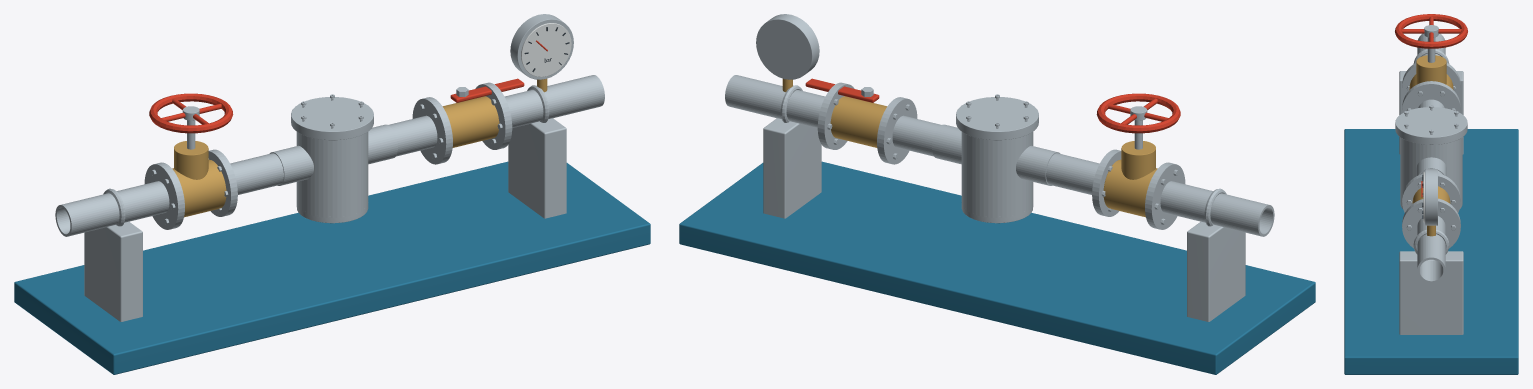
File: 17_pipe_valve_filter_module.glb
3 views of the same model, side by side, from view 1: azimuth 30°, elevation 25°; view 2: azimuth 150°, elevation 25°; view 3: azimuth 270°, elevation 25° (orthographic). The views are drawn at different scales.
Parts seen in each view (by area): view 1: BasePlate, Filter_Housing, Pipe_Support_0, Pipe_Support_1, Pipe_Section_0, Pipe_Section_3, Filter_Lid, Gauge_Face, BallValve_Body, Valve_Body, Pipe_Section_1, Handwheel_Rim (+10 smaller); view 2: BasePlate, Filter_Housing, Pipe_Support_0, Pipe_Support_1, Pipe_Section_0, Gauge_Case, Pipe_Section_3, Filter_Lid, BallValve_Body, Valve_Body, Pipe_Section_1, Handwheel_Rim (+9 smaller); view 3: BasePlate, Pipe_Support_1, Filter_Lid, Filter_Housing, Pipe_Section_3, BallValve_Flange_0.065_FlangePlate, Handwheel_Rim, Valve_Flange_0.058_FlangePlate, BallValve_Flange_-0.065_FlangePlate, Valve_Bonnet, Gauge_Case, Valve_Flange_-0.058_FlangePlate (+7 smaller).
Boxes of the visible parts, left/top/right/bottom form: BasePlate: left=14, top=161, right=650, bottom=374; Filter_Housing: left=296, top=132, right=368, bottom=217; Pipe_Support_0: left=84, top=221, right=142, bottom=321; Pipe_Support_1: left=508, top=118, right=566, bottom=218; Pipe_Section_0: left=55, top=181, right=169, bottom=236; Pipe_Section_3: left=504, top=75, right=604, bottom=127; Filter_Lid: left=291, top=97, right=373, bottom=140; Gauge_Face: left=521, top=23, right=571, bottom=76; BallValve_Body: left=442, top=96, right=499, bottom=147; Valve_Body: left=172, top=159, right=226, bottom=217; Pipe_Section_1: left=230, top=153, right=283, bottom=194; Handwheel_Rim: left=149, top=93, right=233, bottom=133; BasePlate: left=679, top=161, right=1315, bottom=374; Filter_Housing: left=961, top=132, right=1033, bottom=217; Pipe_Support_0: left=1187, top=221, right=1245, bottom=321; Pipe_Support_1: left=763, top=118, right=821, bottom=218; Pipe_Section_0: left=1160, top=181, right=1274, bottom=236; Gauge_Case: left=756, top=14, right=819, bottom=79; Pipe_Section_3: left=725, top=75, right=825, bottom=127; Filter_Lid: left=956, top=97, right=1038, bottom=140; BallValve_Body: left=830, top=96, right=887, bottom=147; Valve_Body: left=1103, top=159, right=1157, bottom=217; Pipe_Section_1: left=1046, top=153, right=1099, bottom=194; Handwheel_Rim: left=1096, top=93, right=1180, bottom=133; BasePlate: left=1344, top=129, right=1518, bottom=374; Pipe_Support_1: left=1399, top=251, right=1463, bottom=334; Filter_Lid: left=1395, top=107, right=1467, bottom=144; Filter_Housing: left=1400, top=137, right=1462, bottom=203; Pipe_Section_3: left=1417, top=216, right=1445, bottom=283; BallValve_Flange_0.065_FlangePlate: left=1402, top=198, right=1460, bottom=248; Handwheel_Rim: left=1395, top=14, right=1467, bottom=48; Valve_Flange_0.058_FlangePlate: left=1402, top=81, right=1460, bottom=112; BallValve_Flange_-0.065_FlangePlate: left=1402, top=173, right=1460, bottom=212; Valve_Bonnet: left=1416, top=55, right=1446, bottom=84; Gauge_Case: left=1425, top=169, right=1437, bottom=225; Valve_Flange_-0.058_FlangePlate: left=1402, top=63, right=1460, bottom=97.
Bounding box in the file's own units: 1.18 × 0.43 × 0.38.
